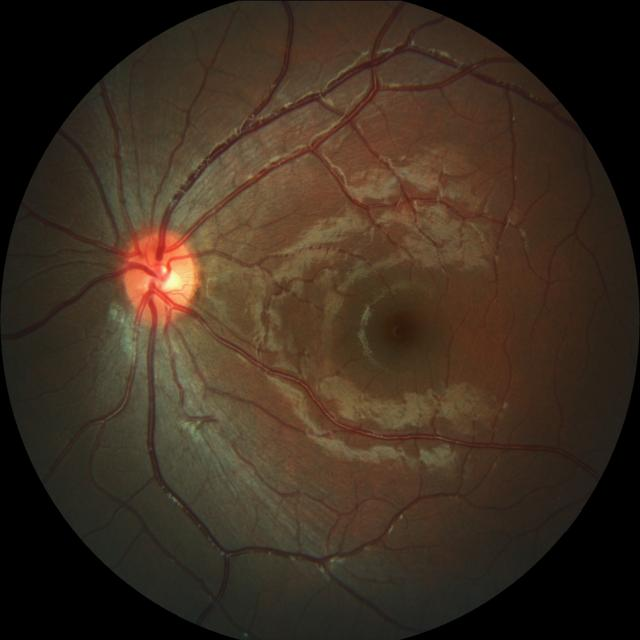OC: (145, 258, 180, 298)
OD: (119, 226, 198, 322)
